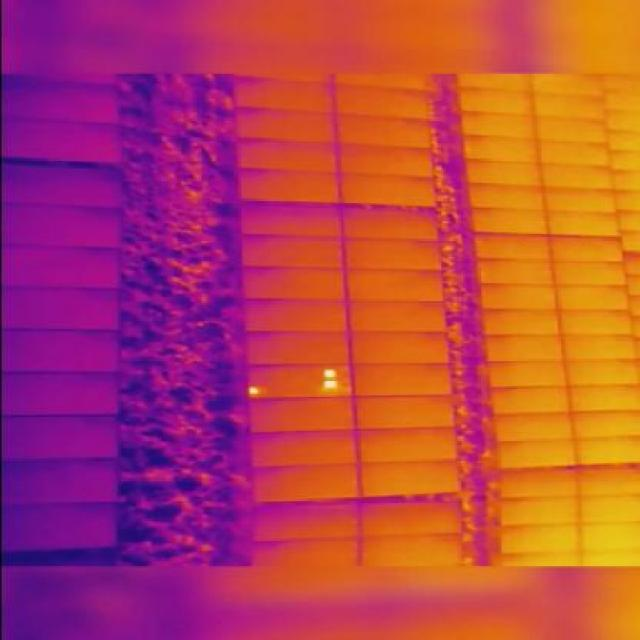hotspot: (322, 379, 341, 388), (322, 368, 338, 378), (246, 386, 263, 394)
